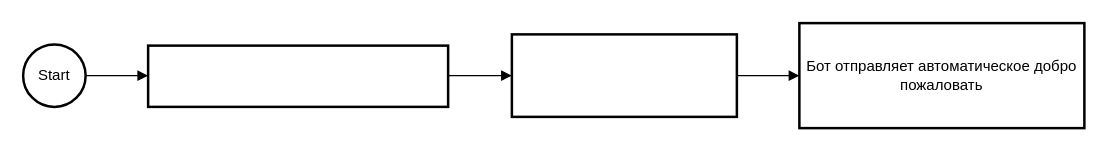
Some shapes in this 1106 by 150 pixel diagram are drawn without their labels. Each missing label, with the centre of its shape:
"Приветственное сообщение" belongs at pixel 624 75.
"Регистрация участников" belongs at pixel 297 76.
